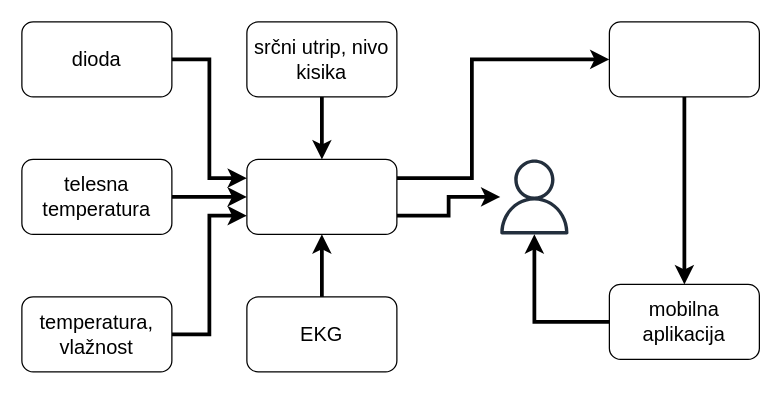
Image size: 781x394. Some labels were removed from this diagram. Each missing label, with the centre of its shape:
"API , podatkovna baza" belongs at pixel 683 59.
"Raspberry Pi" belongs at pixel 321 196.
